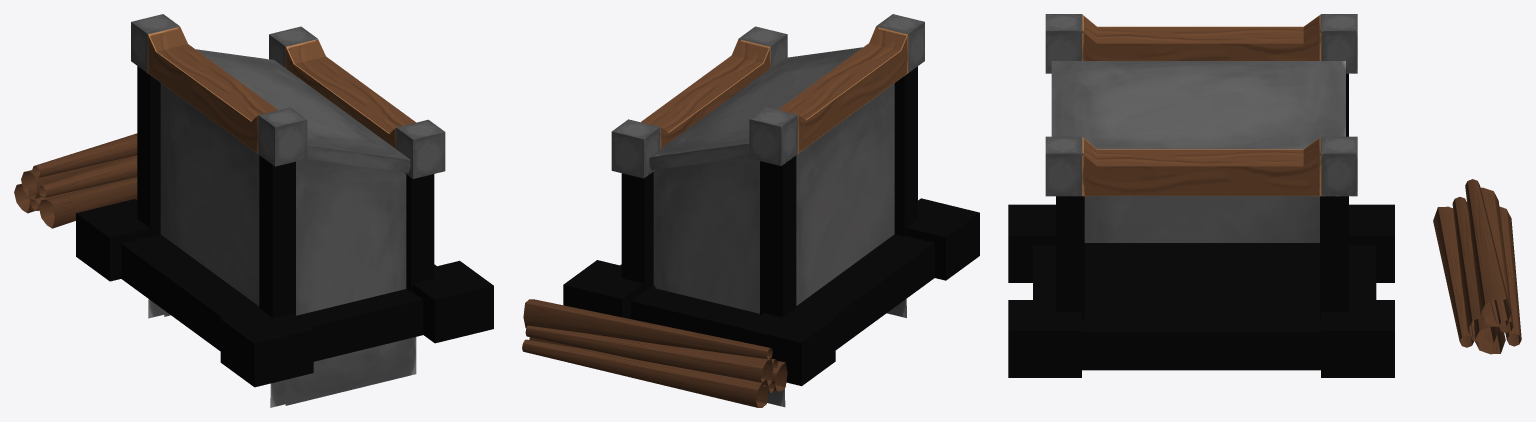
Rendered from Lumber MIll 2.FBX.
The picture shows the model from 3 angles, left to right: view 1: azimuth 30°, elevation 25°; view 2: azimuth 150°, elevation 25°; view 3: azimuth 270°, elevation 25°; orthographic projection. The views are drawn at different scales.
Parts seen in each view (by area): view 1: Box525, Box515; view 2: Box525, Box515; view 3: Box525, Box515.
Part boxes in pixels (left/top/right/bottom): Box525: left=76, top=14, right=493, bottom=407; Box515: left=14, top=133, right=137, bottom=228; Box525: left=563, top=14, right=979, bottom=407; Box515: left=522, top=299, right=787, bottom=407; Box525: left=1008, top=14, right=1394, bottom=377; Box515: left=1433, top=179, right=1521, bottom=354.
Bounding box in the file's own units: 46.28 × 51.97 × 76.93.
